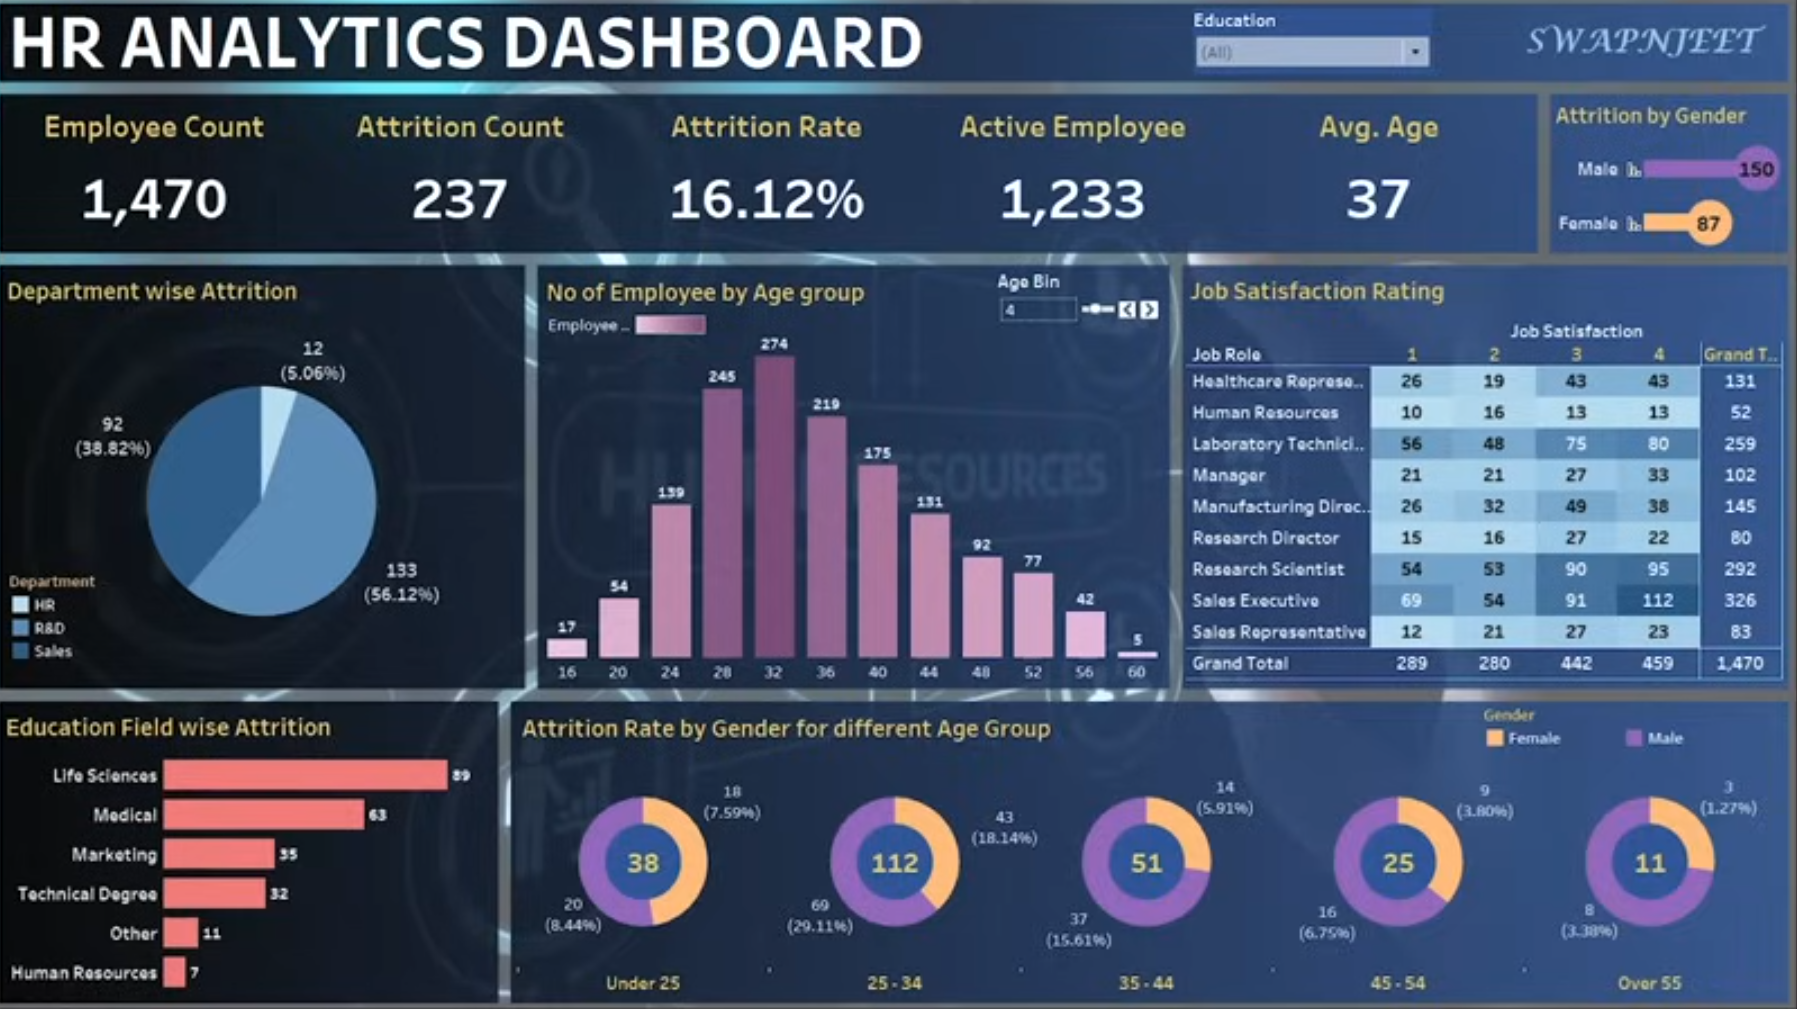

The page's visual inventory and layout, read from the dashboard file:
{"tool":"tableau","page":{"name":"HR ANALYTICS DASHBOARD ","canvas":[1500,900],"ordinal":0},"visuals":[{"type":"image","param":"C:/Users/dubey/OneDrive/Desktop/HR background FINAL.png","box":[8,8,1484,884]},{"type":"text","box":[18,41,1463,63]},{"type":"worksheet","title":"KPI","mark":"Automatic","box":[20,116,1258,129]},{"type":"worksheet","title":"Attrition by Gender ","mark":"Bar","rows":["Gender"],"cols":["Calculation_1331939653371027457","Calculation_1331939653371027457"],"box":[1288,116,195,133]},{"type":"worksheet","title":"Job Satisfaction Rating ","mark":"Square","rows":["Job Role"],"cols":["Job Satisfaction"],"box":[987,252,497,350]},{"type":"worksheet","title":"Department wise Attrition","mark":"Pie","box":[16,255,433,346]},{"type":"worksheet","title":"No of Employee by Age Group ","mark":"Automatic","rows":["Employee Count"],"cols":["Age (bin)"],"box":[459,257,516,346]},{"type":"parameter","param":"[Parameters].[Parameter 1]","box":[788,260,185,71]},{"type":"legend","title":"No of Employee by Age Group ","param":"[federated.1avd36l1midtc41ak6r5v1m2kw0z].[sum:Employee Count:qk]","box":[789,330,185,54]},{"type":"legend","title":"Department wise Attrition","param":"[federated.1avd36l1midtc41ak6r5v1m2kw0z].[none:Department:nk]","box":[23,514,98,85]},{"type":"worksheet","title":"Eduction Field wise Attrition ","mark":"Automatic","rows":["Education Field"],"cols":["Calculation_1331939653371027457"],"box":[15,612,412,248]},{"type":"worksheet","title":"Attrition Rate by Gender for different Age group ","mark":"Pie","rows":["Calculation_1331939653824536583","Calculation_1331939653824536583"],"cols":["CF_age band"],"box":[437,615,1043,244]},{"type":"legend","title":"Attrition Rate by Gender for different Age group ","param":"[federated.1avd36l1midtc41ak6r5v1m2kw0z].[none:Gender:nk]","box":[937,615,545,57]}]}

Visuals, with their boxes on the page's 1500x900 design canvas (x1, y1, x2, y2). These are canvas units, not pixel positions in the 1797x1009 screenshot, which may show the page scaled, cropped or inside an application window:
image: 8/8/1492/892
text: 18/41/1481/104
"KPI" worksheet: 20/116/1278/245
"Attrition by Gender " worksheet (Bar marks): 1288/116/1483/249
"Job Satisfaction Rating " worksheet (Square marks): 987/252/1484/602
"Department wise Attrition" worksheet (Pie marks): 16/255/449/601
"No of Employee by Age Group " worksheet: 459/257/975/603
parameter: 788/260/973/331
"No of Employee by Age Group " legend: 789/330/974/384
"Department wise Attrition" legend: 23/514/121/599
"Eduction Field wise Attrition " worksheet: 15/612/427/860
"Attrition Rate by Gender for different Age group " worksheet (Pie marks): 437/615/1480/859
"Attrition Rate by Gender for different Age group " legend: 937/615/1482/672
